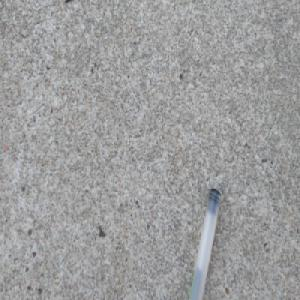Pen: (185, 186, 222, 300)
